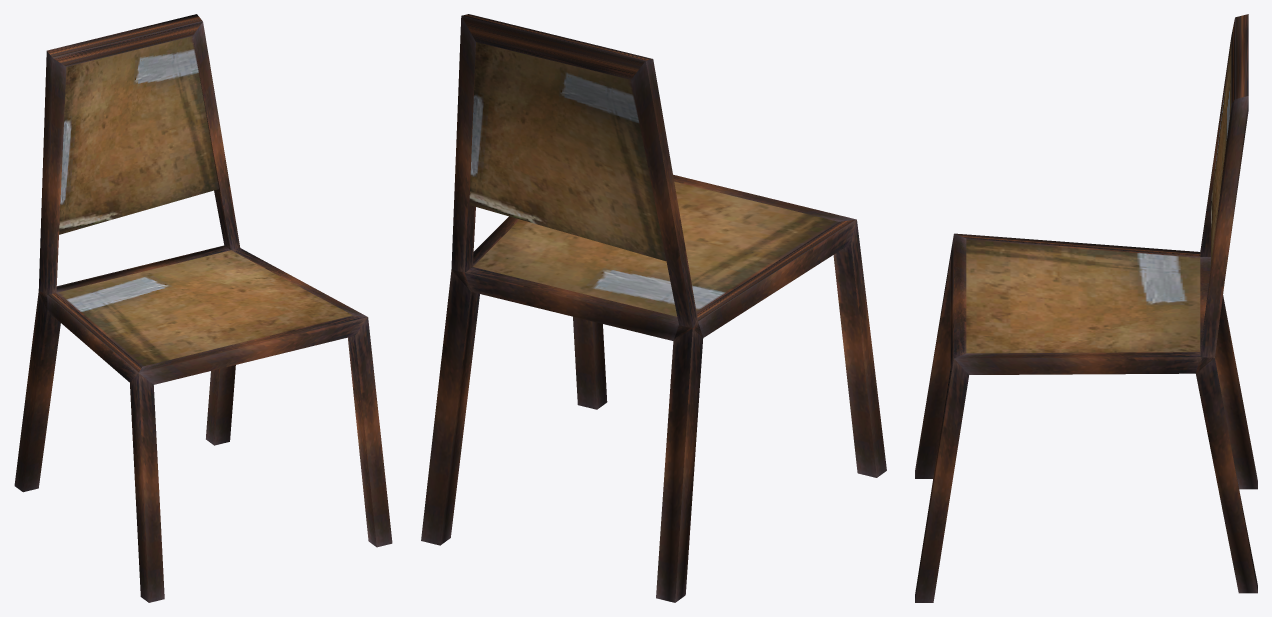
Rendered from chr_med_low_brown.fbx.
3 views of the same model, side by side, from view 1: azimuth 30°, elevation 25°; view 2: azimuth 150°, elevation 25°; view 3: azimuth 270°, elevation 25° (orthographic). The views are drawn at different scales.
Visible parts, largest first — view 1: mesh_0; view 2: mesh_0; view 3: mesh_0.
Boxes of the visible parts, x1,y1,x2,y2 form: mesh_0: (14,14,392,602); mesh_0: (421,14,886,602); mesh_0: (915,14,1257,602).
Size of the model in its own units: 58.47 by 99.03 by 63.84.
1 material, 1 textured.
